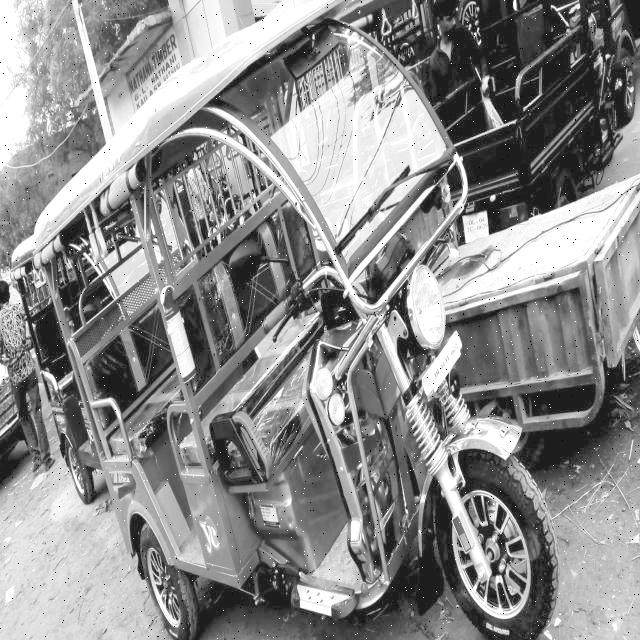Toto: (31, 0, 563, 640)
